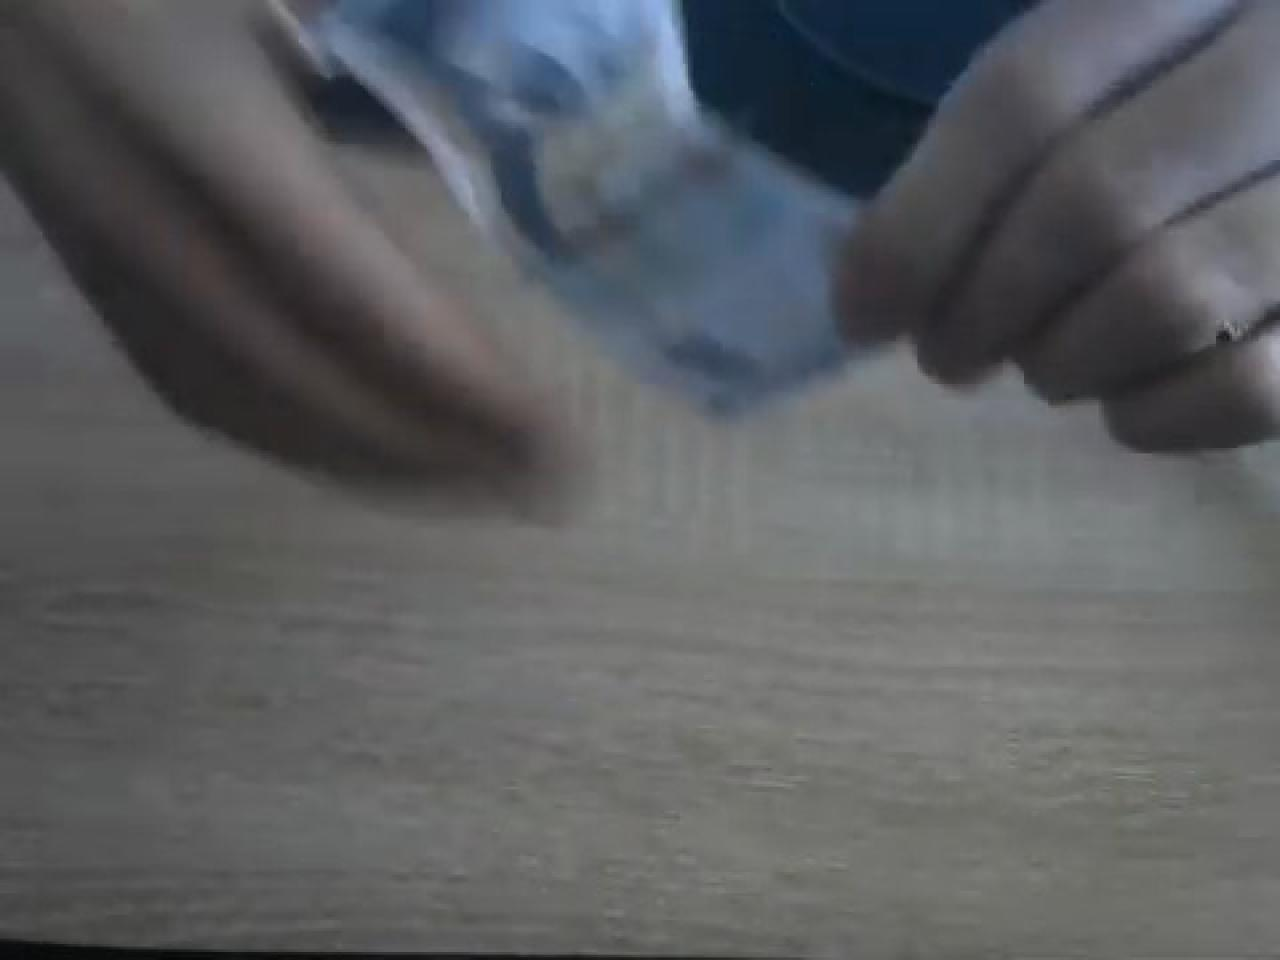20leva: (235, 0, 1280, 451)
